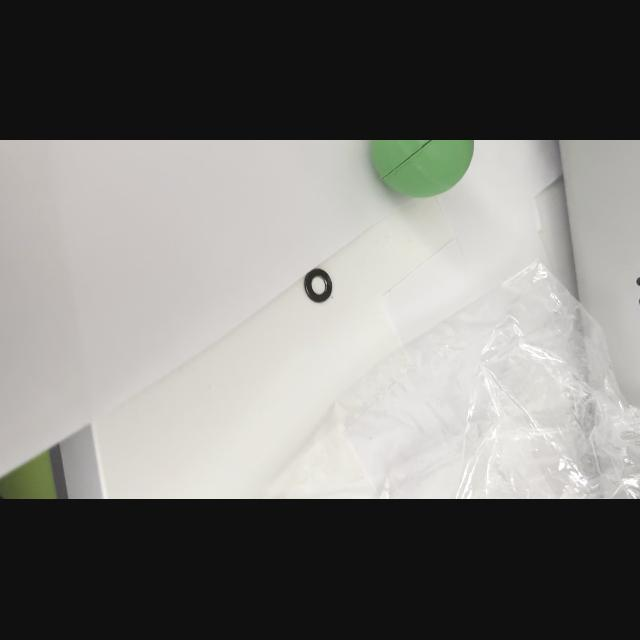objects: (360, 140, 478, 200)
